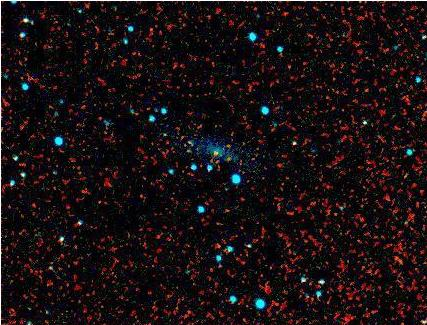star: (174, 135, 204, 165)
